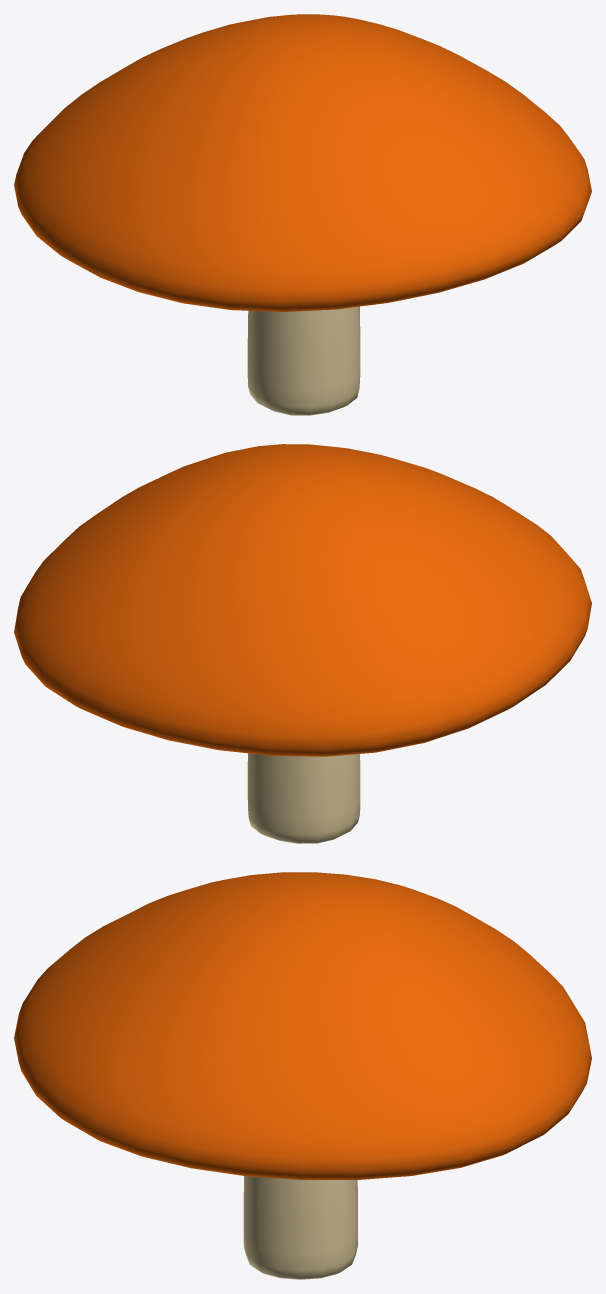
Rendered from Mushroom_3.fbx.
The picture shows the model from 3 angles, top to bottom: view 1: azimuth 30°, elevation 25°; view 2: azimuth 150°, elevation 25°; view 3: azimuth 270°, elevation 25°; orthographic projection. The views are drawn at different scales.
Visible parts, largest first — view 1: Mushroom_3; view 2: Mushroom_3; view 3: Mushroom_3.
Boxes of the visible parts, x1,y1,x2,y2 form: Mushroom_3: (14, 14, 591, 415); Mushroom_3: (14, 444, 591, 843); Mushroom_3: (14, 872, 591, 1279).
Bounding box in the file's own units: 40.65 × 28.06 × 40.59.
